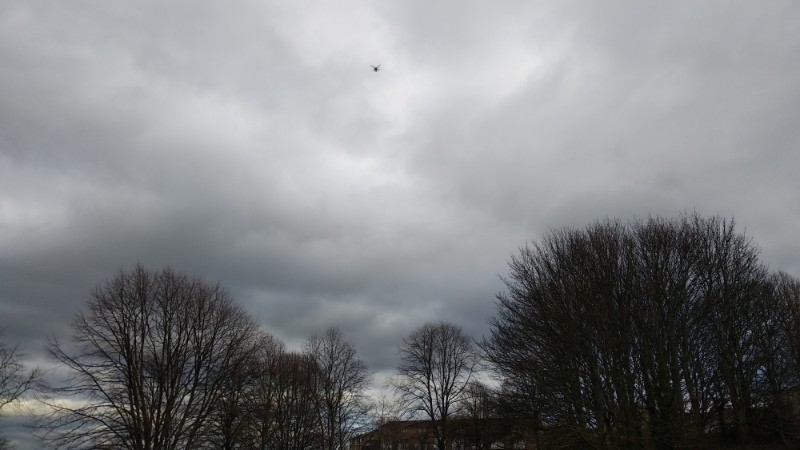drone: (370, 65, 383, 74)
